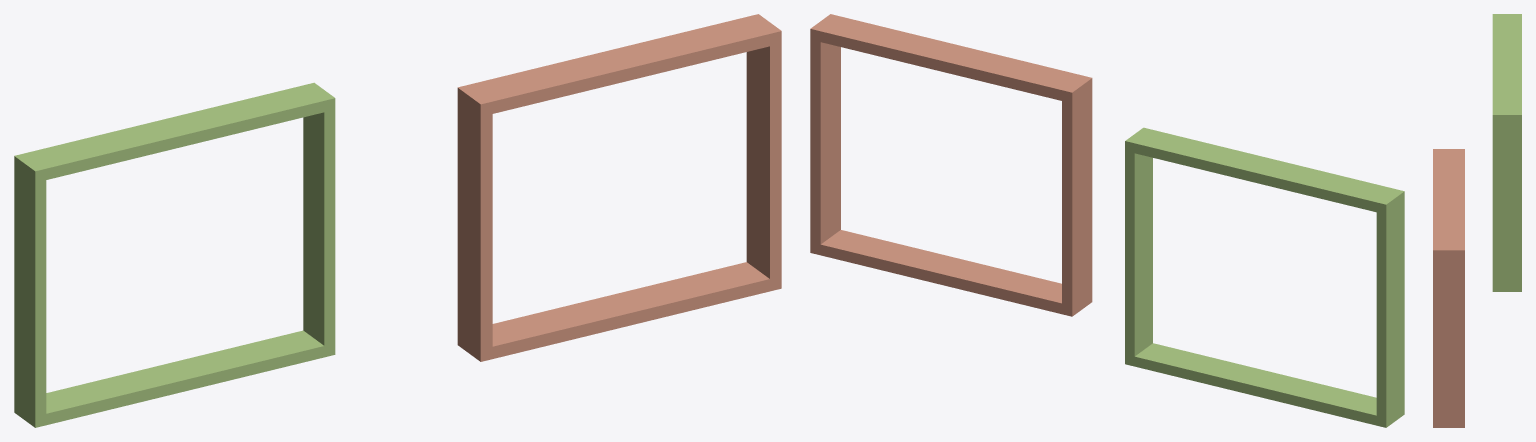
Rendered from clamshell_shiplap_demo.glb.
3 views of the same model, side by side, from view 1: azimuth 30°, elevation 25°; view 2: azimuth 150°, elevation 25°; view 3: azimuth 270°, elevation 25° (orthographic). The views are drawn at different scales.
Visible parts, largest first — view 1: lid_slot, base_lip; view 2: lid_slot, base_lip; view 3: lid_slot, base_lip.
Boxes of the visible parts, x1,y1,x2,y2 form: lid_slot: [457, 14, 781, 361]; base_lip: [14, 82, 335, 427]; lid_slot: [810, 14, 1092, 316]; base_lip: [1125, 127, 1404, 427]; lid_slot: [1433, 149, 1464, 427]; base_lip: [1492, 14, 1521, 291].
Bounding box in the file's own units: 76.85 × 26.9 × 12.2.
